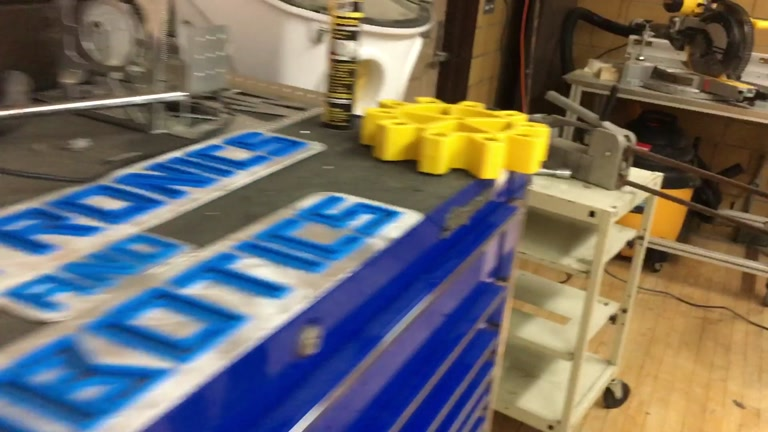gear: (359, 93, 550, 179)
